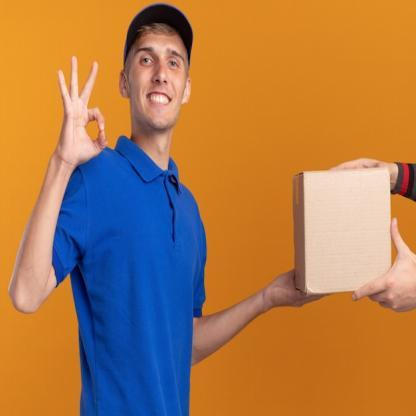ok: (52, 51, 108, 170)
